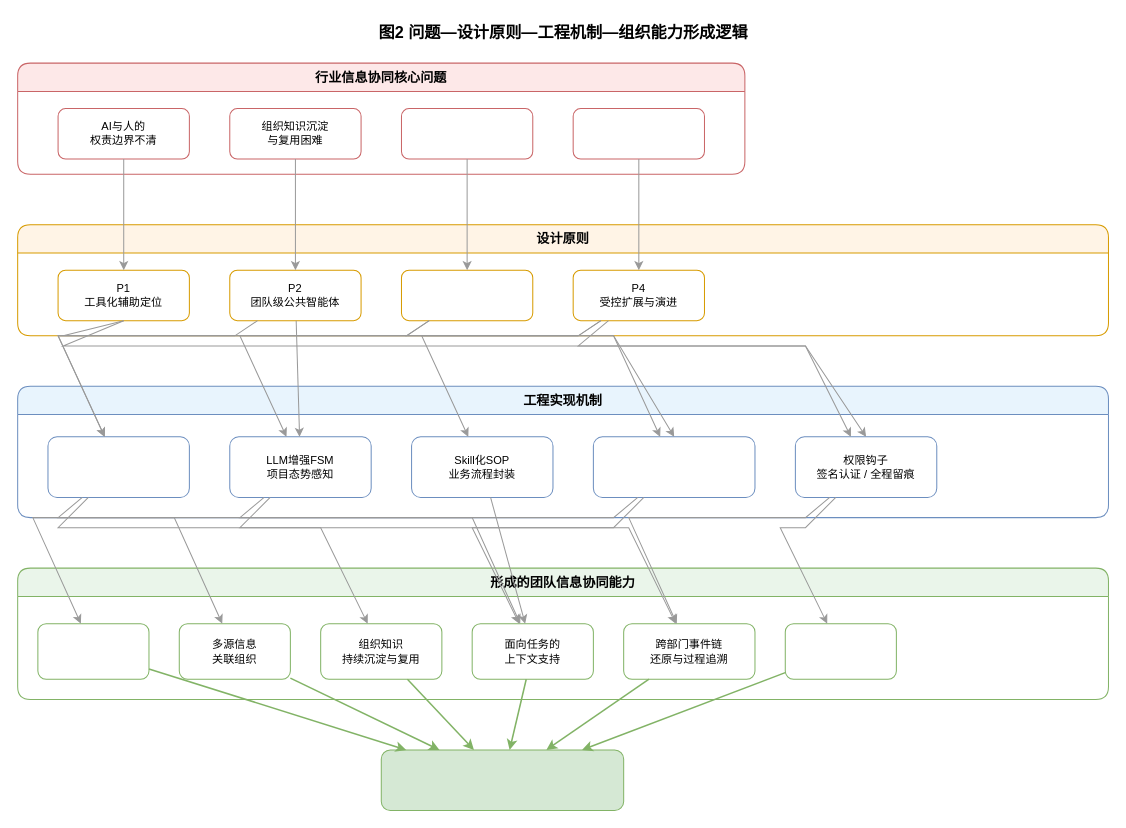
The diagram is 1126 pixels wide and 828 high, and some of its shapes have lost their labels. Each missing label, with the centre of its shape:
"P3 自然语言持续嵌入" goes at pixel 466 295.
"三书认知基座 态势—规则—能力" goes at pixel 118 466.
"三智能体分工 Session / WorkItem / Guardian" goes at pixel 673 466.
"地产项目团队 信息协同能力提升" goes at pixel 502 780.
"多来源对照 交叉验证" goes at pixel 840 651.
"过程信息 持续进入" goes at pixel 93 651.
"过程信息采集 门槛高、易流失" goes at pixel 466 133.
"项目场景多变 系统难以持续扩展" goes at pixel 638 133.
